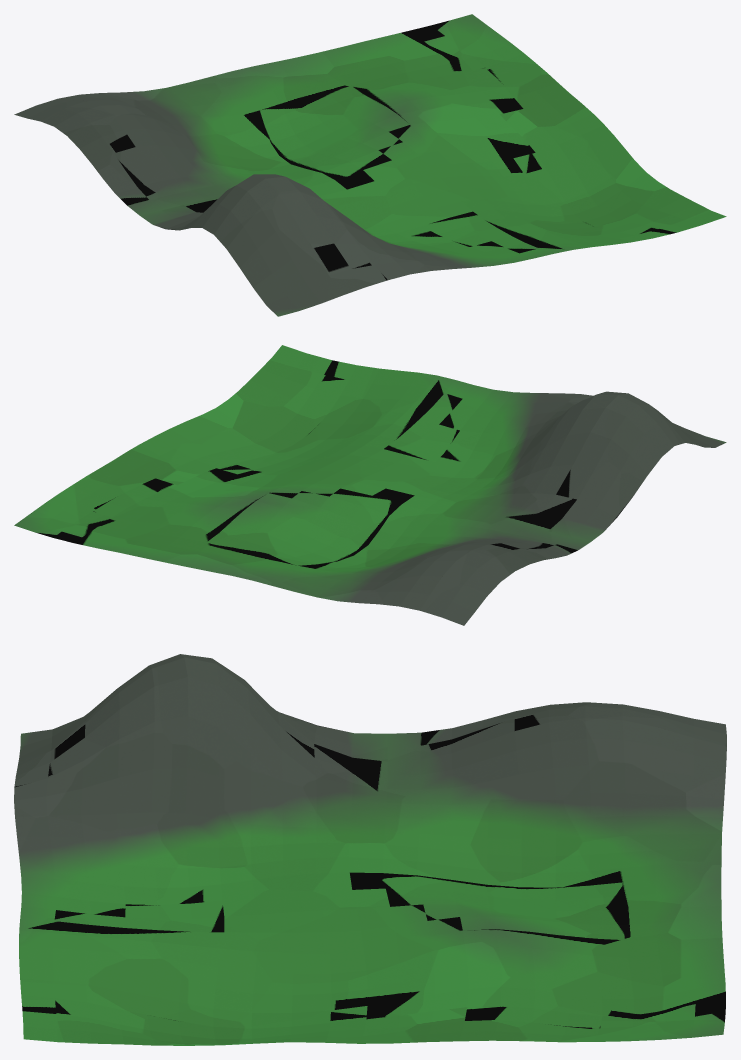
The picture shows the model from 3 angles, top to bottom: view 1: azimuth 30°, elevation 25°; view 2: azimuth 150°, elevation 25°; view 3: azimuth 270°, elevation 25°; orthographic projection. The views are drawn at different scales.
Visible parts, largest first — view 1: Plane_1; view 2: Plane_1; view 3: Plane_1.
Part boxes in pixels (x1,y1,x2,y2): Plane_1: [14, 14, 726, 316]; Plane_1: [14, 345, 726, 625]; Plane_1: [14, 654, 726, 1045].
Bounding box in the file's own units: 14.3 × 3.56 × 14.22.
1 material, 1 textured.
